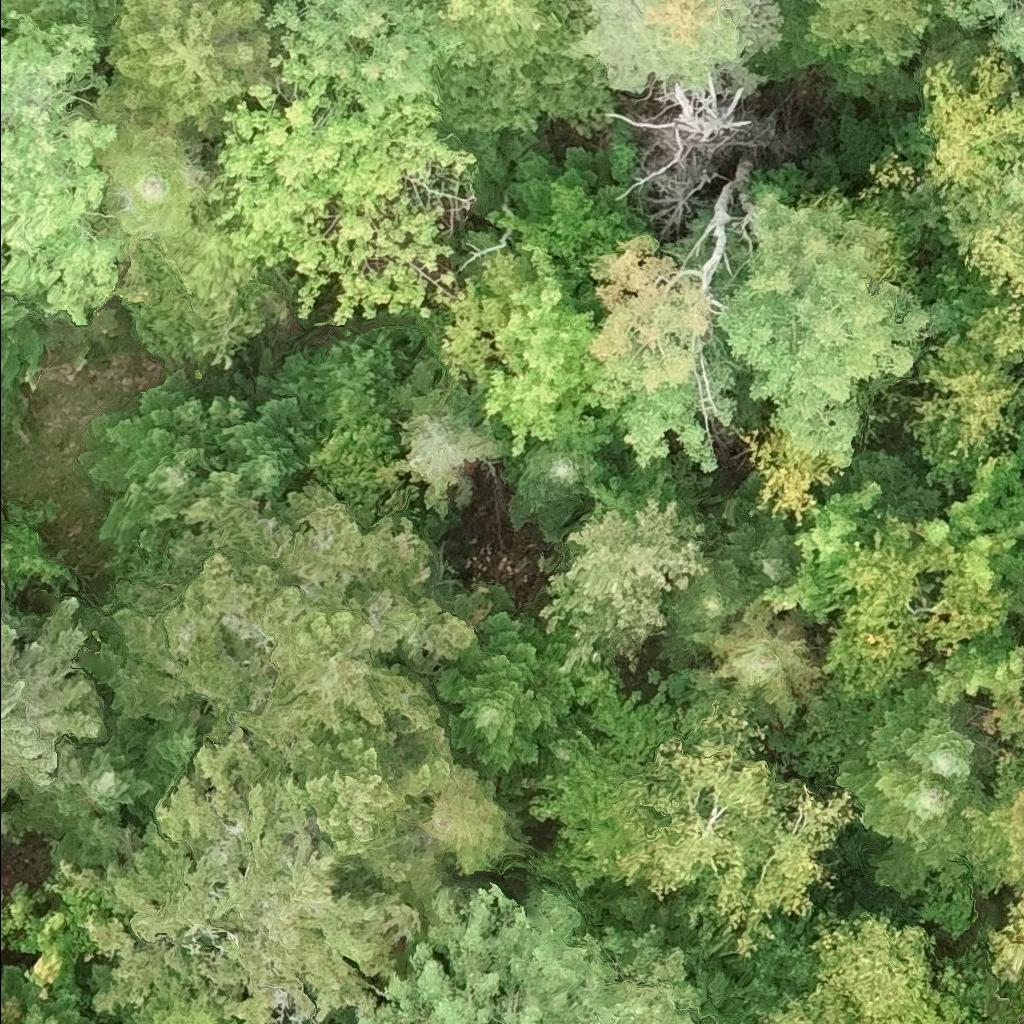crown: (75, 468, 491, 751), (45, 728, 430, 1023), (598, 666, 862, 965), (206, 76, 475, 325), (716, 181, 931, 467), (498, 664, 710, 921), (356, 877, 726, 1023), (0, 8, 128, 328), (250, 720, 454, 920), (817, 508, 1017, 704), (535, 462, 711, 674), (587, 233, 740, 474), (74, 369, 250, 561), (0, 550, 111, 845), (466, 240, 615, 455), (430, 575, 582, 778), (114, 199, 286, 369), (600, 72, 779, 233), (433, 0, 630, 141), (831, 736, 990, 897), (901, 293, 1023, 498), (92, 0, 273, 138), (251, 0, 477, 109), (4, 724, 160, 866), (563, 0, 786, 99), (388, 346, 510, 516), (751, 0, 941, 103), (921, 748, 1023, 938), (910, 424, 1023, 592), (755, 477, 883, 623), (811, 914, 980, 1023), (86, 109, 211, 256), (207, 339, 320, 497), (919, 42, 1023, 205), (658, 510, 760, 668), (707, 595, 824, 728), (408, 752, 527, 879), (494, 436, 623, 548), (433, 249, 527, 392), (731, 428, 849, 536), (857, 677, 976, 782), (0, 880, 99, 1002), (707, 468, 799, 588), (920, 619, 1023, 708), (938, 158, 1023, 257), (102, 972, 237, 1023), (0, 954, 99, 1023), (962, 208, 1023, 304), (0, 0, 127, 46), (985, 878, 1023, 1023), (938, 0, 1023, 64), (756, 981, 873, 1023), (0, 293, 44, 394), (978, 692, 1023, 748), (996, 568, 1023, 626), (0, 987, 21, 1023), (0, 525, 15, 552), (1017, 539, 1023, 552)
